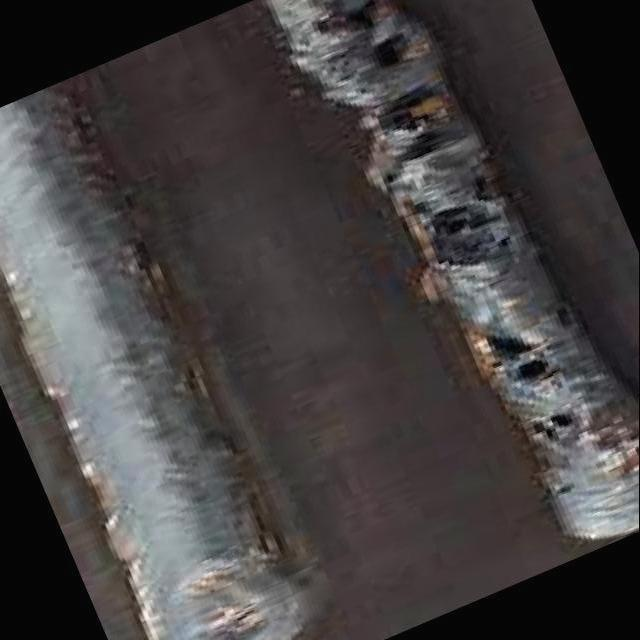defect: (372, 93, 447, 164), (482, 327, 562, 391), (305, 0, 384, 41), (425, 204, 521, 236), (361, 33, 414, 68), (527, 412, 581, 445), (454, 235, 521, 260), (375, 169, 400, 190), (548, 484, 575, 502)
